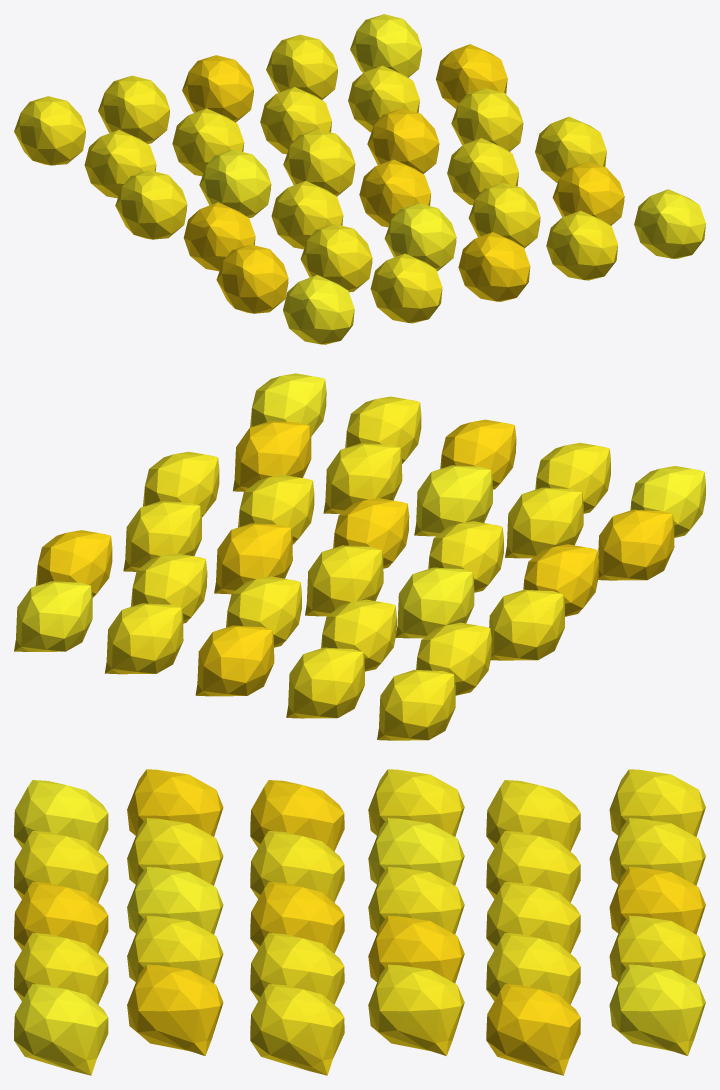
The model's file is FBX_Lemon.fbx.
3 views of the same model, one above another, from view 1: azimuth 30°, elevation 25°; view 2: azimuth 150°, elevation 25°; view 3: azimuth 270°, elevation 25° (orthographic). The views are drawn at different scales.
Parts seen in each view (by area): view 1: M_Lemon; view 2: M_Lemon; view 3: M_Lemon.
Part boxes in pixels (x1,y1,x2,y2): M_Lemon: (14,14,705,344); M_Lemon: (14,373,705,740); M_Lemon: (14,769,705,1075).
Bounding box in the file's own units: 0.7266 × 0.0989 × 0.8554.
